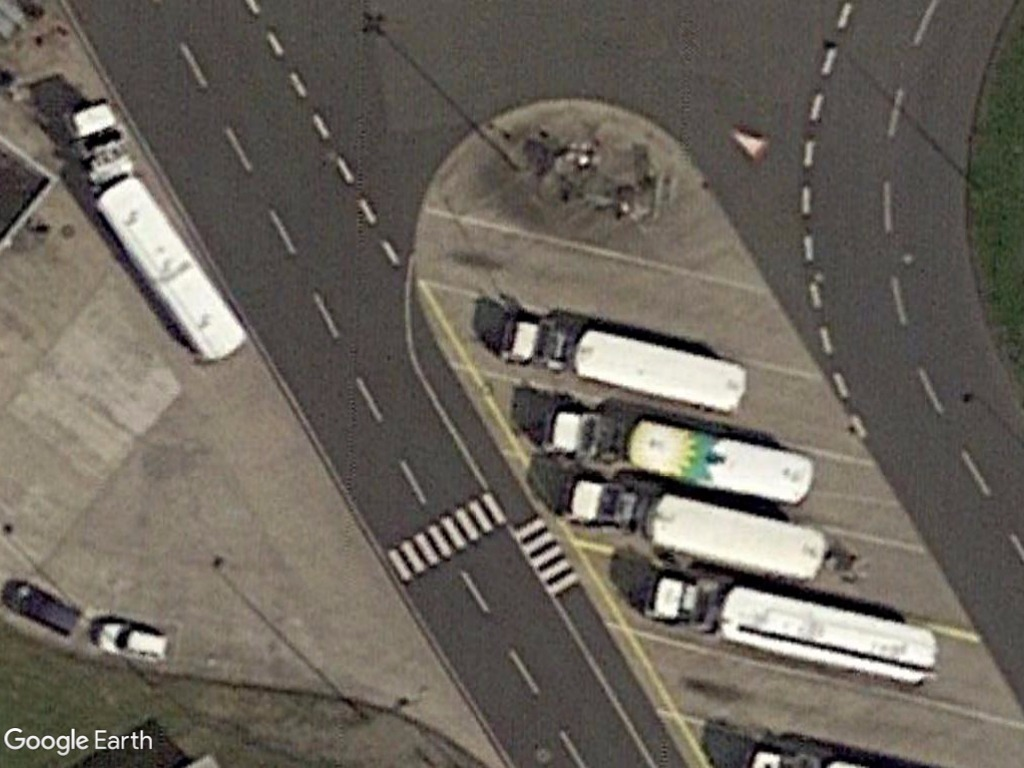car: (91, 616, 173, 667)
longvehicle: (637, 565, 943, 697), (88, 165, 254, 368), (555, 471, 834, 591), (539, 401, 816, 511), (500, 303, 750, 415)
